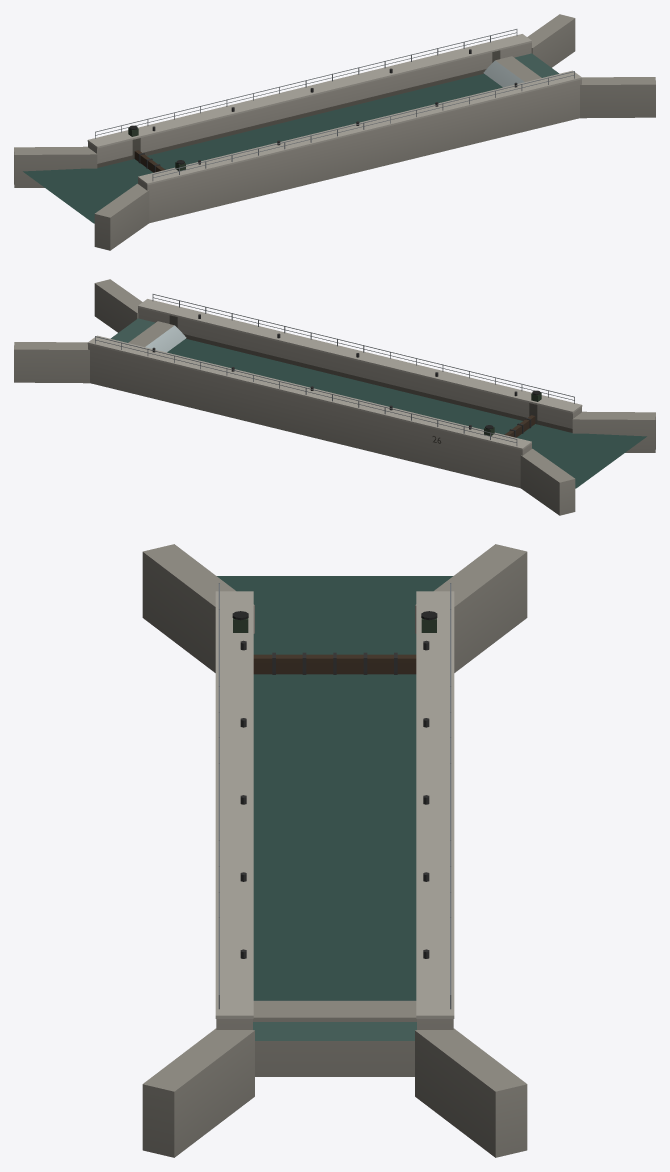
The model's file is lock26.glb.
3 views of the same model, one above another, from view 1: azimuth 30°, elevation 25°; view 2: azimuth 150°, elevation 25°; view 3: azimuth 270°, elevation 25° (orthographic). The views are drawn at different scales.
Visible parts, largest first — view 1: lock26_lod0; view 2: lock26_lod0; view 3: lock26_lod0.
Part boxes in pixels (bbox=[...]): lock26_lod0: bbox=[14, 14, 655, 250]; lock26_lod0: bbox=[14, 279, 655, 515]; lock26_lod0: bbox=[142, 544, 527, 1157].
Size of what is drawn, in the model's own units: 85.17 by 6.95 by 25.3.
